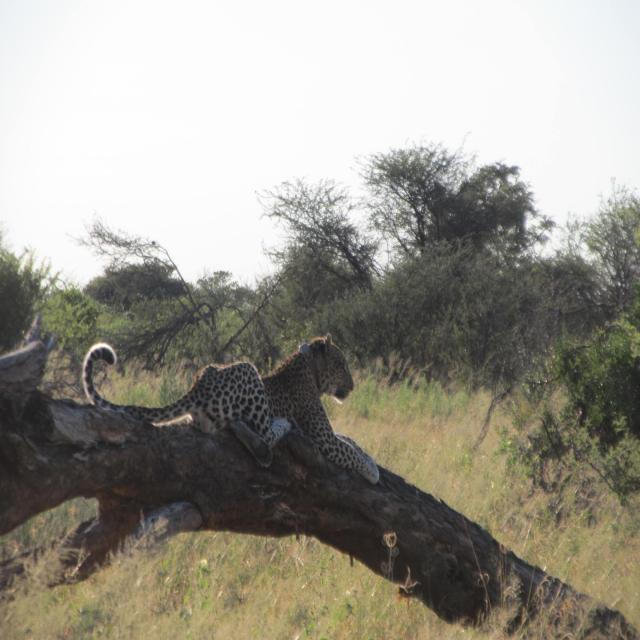Leopard: (79, 326, 384, 489)
